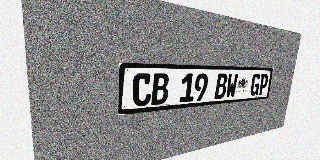1: (179, 73, 195, 102)
9: (193, 73, 209, 101)
B: (151, 73, 169, 105), (214, 73, 228, 99)
C: (132, 73, 152, 107)
G: (249, 74, 261, 96)
P: (258, 74, 269, 95)
W: (225, 73, 238, 98)
